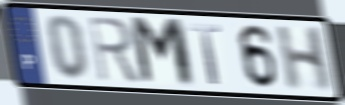0: (45, 12, 91, 82)
6: (236, 22, 279, 91)
H: (274, 25, 333, 93)
M: (127, 14, 199, 90)
R: (86, 14, 143, 85)
T: (187, 22, 223, 87)
